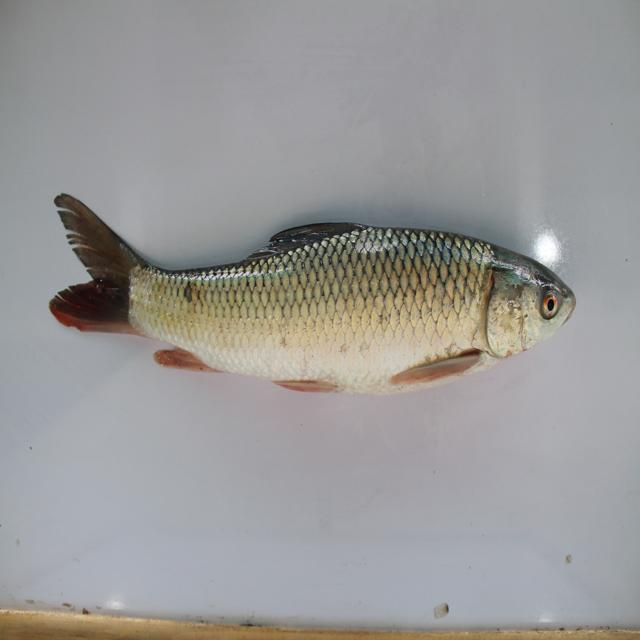Mori: (39, 182, 588, 411)
